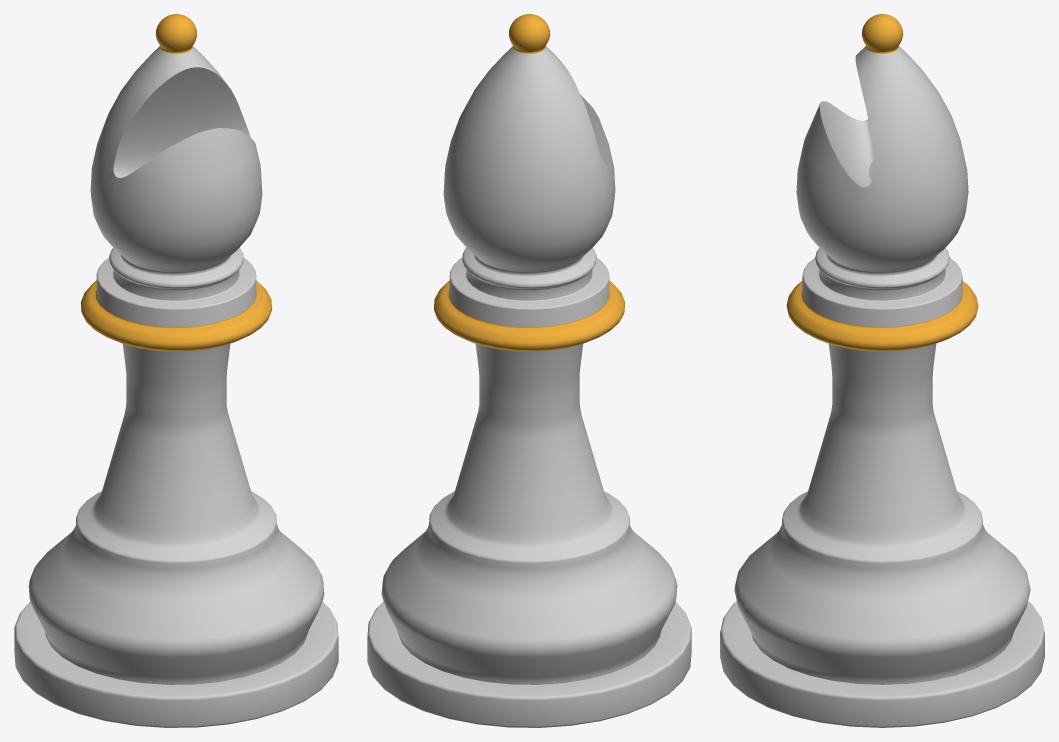
File: bishop.glb
3 renders of one model, left to right at view 1: azimuth 30°, elevation 25°; view 2: azimuth 150°, elevation 25°; view 3: azimuth 270°, elevation 25°, orthographic.
Parts seen in each view (by area): view 1: Circle.032; view 2: Circle.032; view 3: Circle.032.
Part boxes in pixels (x1,y1,x2,y2): Circle.032: [14, 14, 338, 727]; Circle.032: [367, 14, 691, 727]; Circle.032: [720, 14, 1044, 727].
Bounding box in the file's own units: 31.61 × 69.24 × 31.61.
